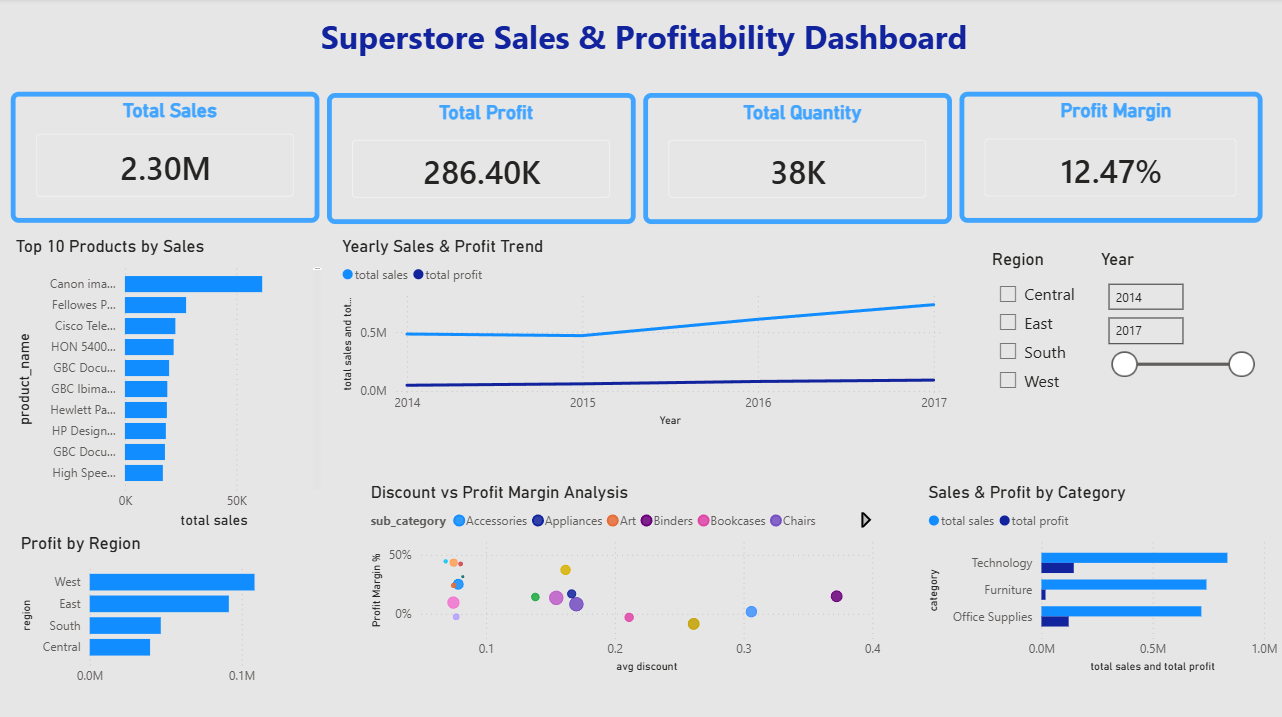

Layout of this report page (visuals, bound fields, positions):
{"tool":"powerbi","page":{"name":"Page 1","canvas":[1280,720],"ordinal":0},"visuals":[{"type":"cardVisual","title":"Total Sales","fields":{"Data":["cleaned_superstore.total sales"]},"box":[13.7,93.3,307.4,130.4],"z":0},{"type":"cardVisual","title":"Profit Margin","fields":{"Data":["cleaned_superstore.Profit Margin %"]},"box":[957.8,93.3,301.9,130.4],"z":1000},{"type":"cardVisual","title":"Total Quantity","fields":{"Data":["cleaned_superstore.total quantity"]},"box":[643.1,94.2,307.4,130.4],"z":2000},{"type":"cardVisual","title":"Total Profit","fields":{"Data":["cleaned_superstore.total profit"]},"box":[328.4,94.7,307.4,130.4],"z":3000},{"type":"lineChart","title":"Yearly Sales & Profit Trend","fields":{"Category":["cleaned_superstore.order_date.Variation.Date Hierarchy.Year","cleaned_superstore.order_date.Variation.Date Hierarchy.Quarter","cleaned_superstore.order_date.Variation.Date Hierarchy.Month","cleaned_superstore.order_date.Variation.Date Hierarchy.Day"],"Y":["cleaned_superstore.total sales","cleaned_superstore.total profit"]},"box":[338.9,236,612,194.9],"z":4000},{"type":"clusteredBarChart","title":"Sales & Profit by Category","fields":{"Category":["cleaned_superstore.category"],"Y":["cleaned_superstore.total sales","cleaned_superstore.total profit"]},"box":[922.1,481.6,358.1,194.9],"z":5000},{"type":"barChart","title":"Profit by Region","fields":{"Category":["cleaned_superstore.region"],"Y":["cleaned_superstore.total profit"]},"box":[19.2,532.4,319.7,160.5],"z":6000},{"type":"barChart","title":"Top 10 Products by Sales","fields":{"Category":["cleaned_superstore.product_name"],"Y":["cleaned_superstore.total sales"]},"box":[13.7,236,314.2,296.4],"z":7000},{"type":"scatterChart","title":"Discount vs Profit Margin Analysis","fields":{"X":["cleaned_superstore.avg discount"],"Y":["cleaned_superstore.Profit Margin %"],"Series":["cleaned_superstore.sub_category"],"Size":["Sum(cleaned_superstore.sales)"]},"box":[366.4,481.6,517.3,194.9],"z":8000},{"type":"slicer","title":"Region","fields":{"Values":["cleaned_superstore.region"]},"box":[985.3,249.7,105.7,188],"z":9000},{"type":"slicer","title":"Year","fields":{"Values":["cleaned_superstore.order_date.Variation.Date Hierarchy.Year"]},"box":[1093.7,249.7,166,140],"z":10000},{"type":"textbox","box":[301.9,11,683.4,54.9],"z":11000}]}

Visuals, with their boxes in screenshot pixels (x1, y1, x2, y2), scaled from the page's 1280x720 canvas onto the 1282x717 screenshot:
"Total Sales" cardVisual: (x1=14, y1=93, x2=322, y2=223)
"Profit Margin" cardVisual: (x1=959, y1=93, x2=1262, y2=223)
"Total Quantity" cardVisual: (x1=644, y1=94, x2=952, y2=224)
"Total Profit" cardVisual: (x1=329, y1=94, x2=637, y2=224)
"Yearly Sales & Profit Trend" lineChart: (x1=339, y1=235, x2=952, y2=429)
"Sales & Profit by Category" clusteredBarChart: (x1=924, y1=480, x2=1281, y2=674)
"Profit by Region" barChart: (x1=19, y1=530, x2=339, y2=690)
"Top 10 Products by Sales" barChart: (x1=14, y1=235, x2=328, y2=530)
"Discount vs Profit Margin Analysis" scatterChart: (x1=367, y1=480, x2=885, y2=674)
"Region" slicer: (x1=987, y1=249, x2=1093, y2=436)
"Year" slicer: (x1=1095, y1=249, x2=1262, y2=388)
textbox: (x1=302, y1=11, x2=987, y2=66)
